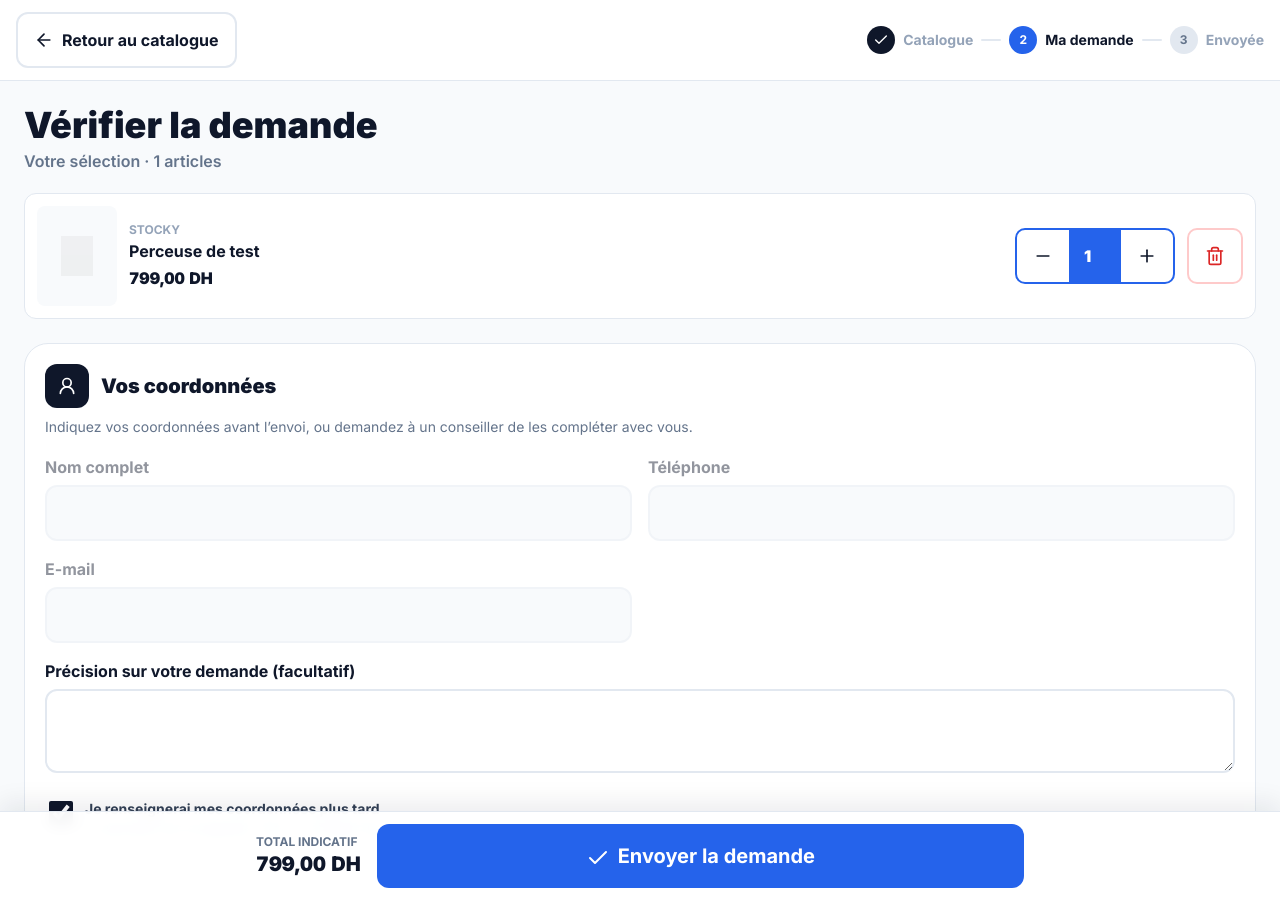
Test: KioskPage › allows the client to defer contact details until staff follow-up
Earlier steps of the test are not shown.
Click the button "Envoyer la demande".
click(700, 856)  # box [377, 824, 1024, 888]
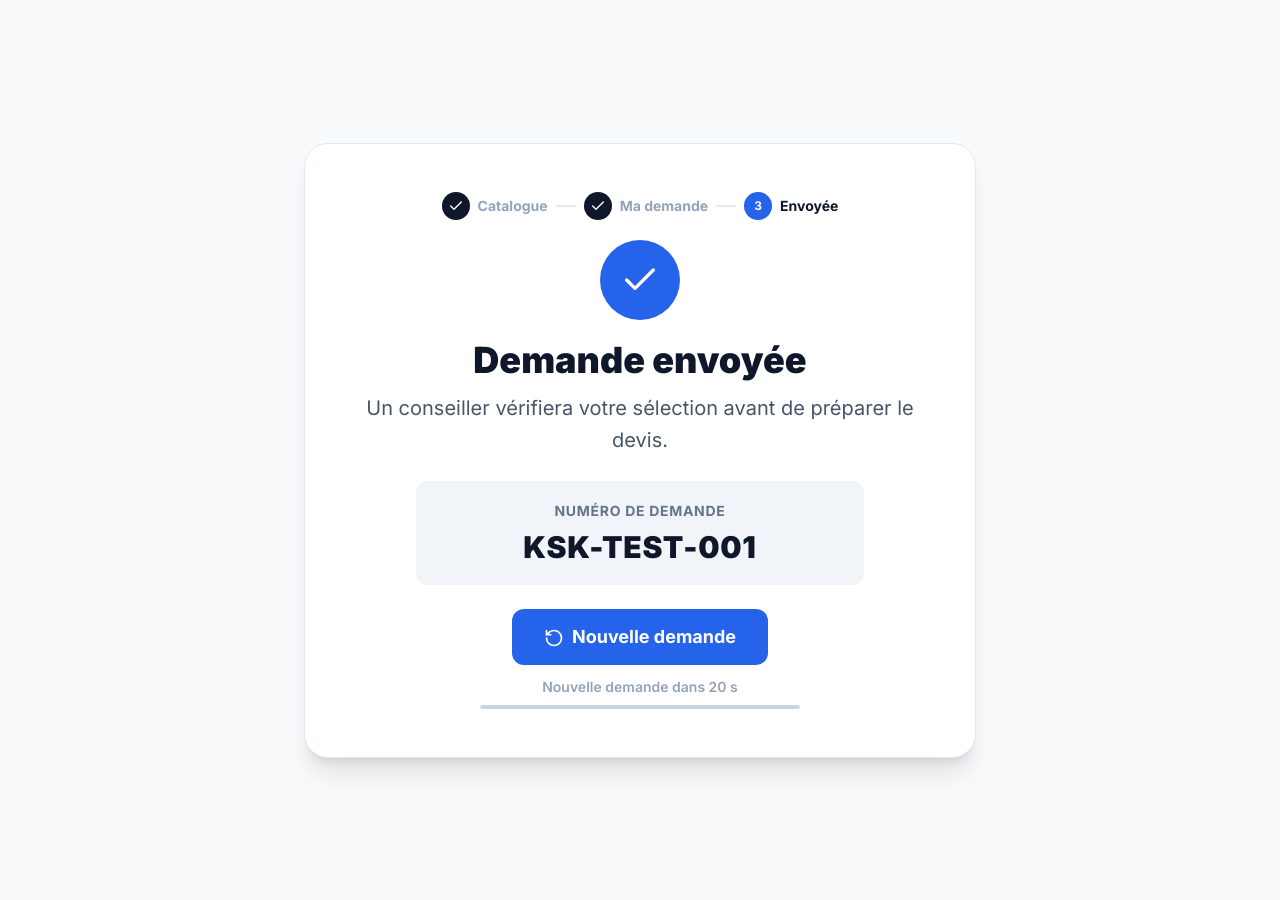
Now the text "KSK-TEST-001" is shown, box [523, 528, 757, 564]
